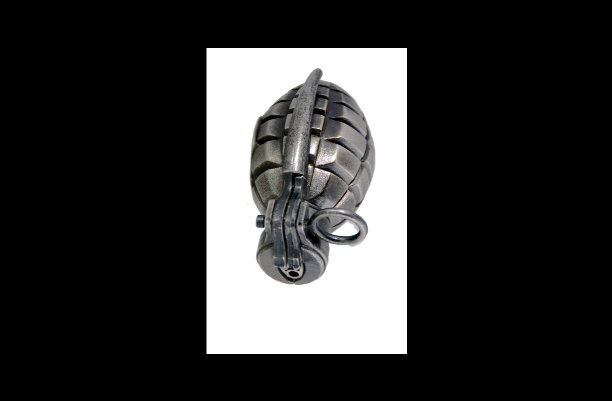e1: (244, 64, 375, 290)
